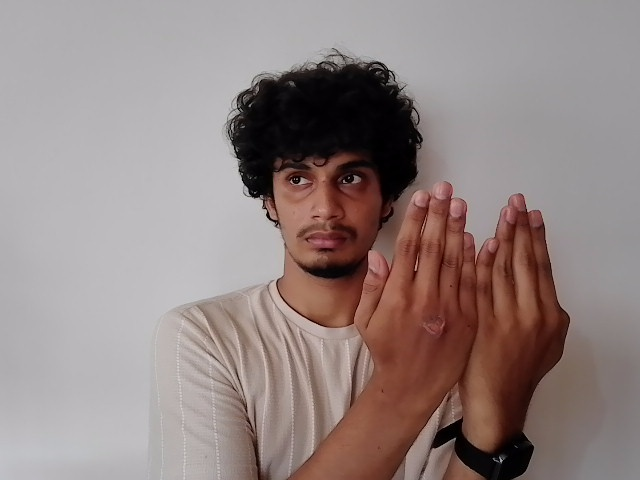school: (348, 180, 577, 408)
